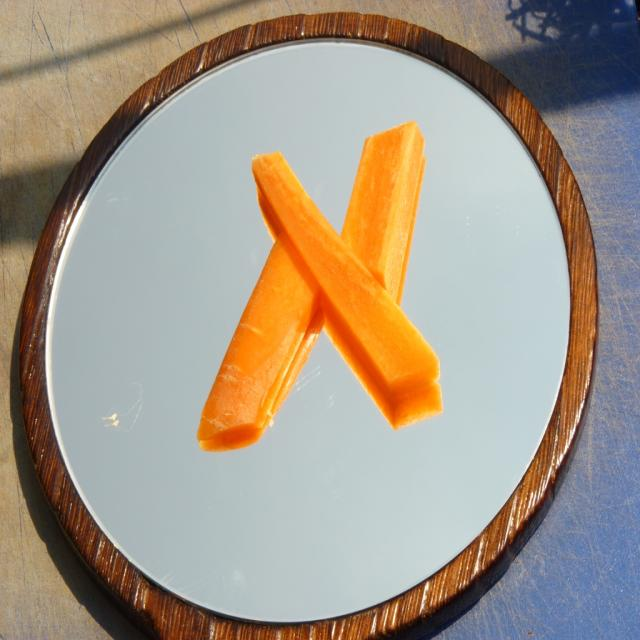carrot: (252, 148, 442, 399), (200, 230, 314, 435), (342, 120, 427, 306)
